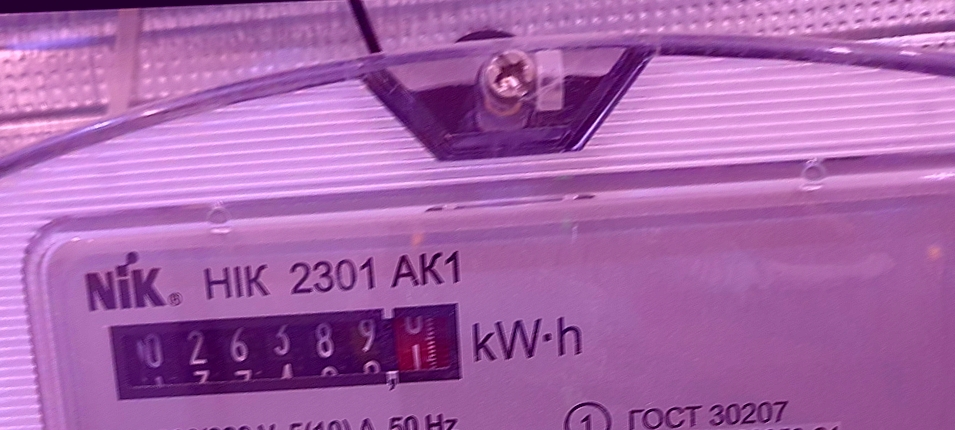0: (140, 329, 165, 369), (404, 314, 423, 335)
1: (409, 340, 423, 372)
2: (185, 327, 210, 366)
3: (272, 322, 290, 357)
6: (229, 324, 248, 364)
8: (314, 320, 336, 359)
9: (357, 317, 377, 352)
screen: (94, 291, 478, 412)
